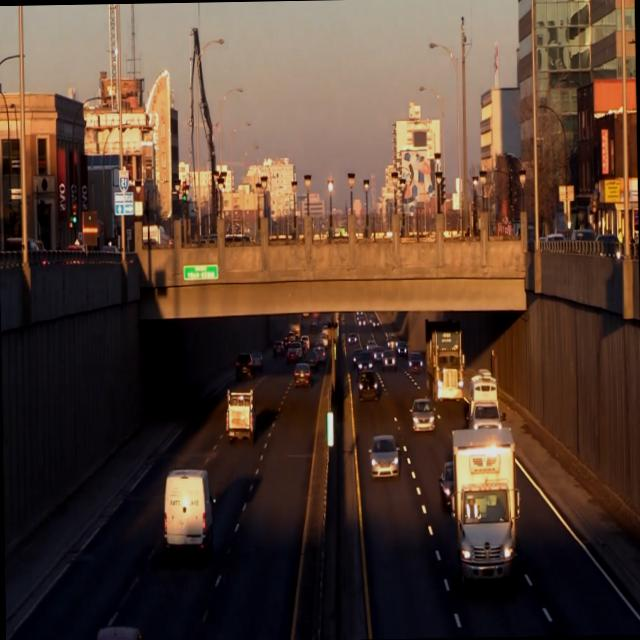Vehicle: (449, 426, 522, 594), (163, 468, 214, 558), (424, 318, 464, 402), (468, 372, 503, 430), (224, 388, 256, 443), (368, 434, 400, 482), (409, 398, 436, 433), (357, 372, 378, 401), (292, 362, 310, 388), (235, 354, 254, 378), (408, 349, 422, 375), (304, 351, 319, 372), (382, 351, 397, 371), (251, 349, 262, 371)
